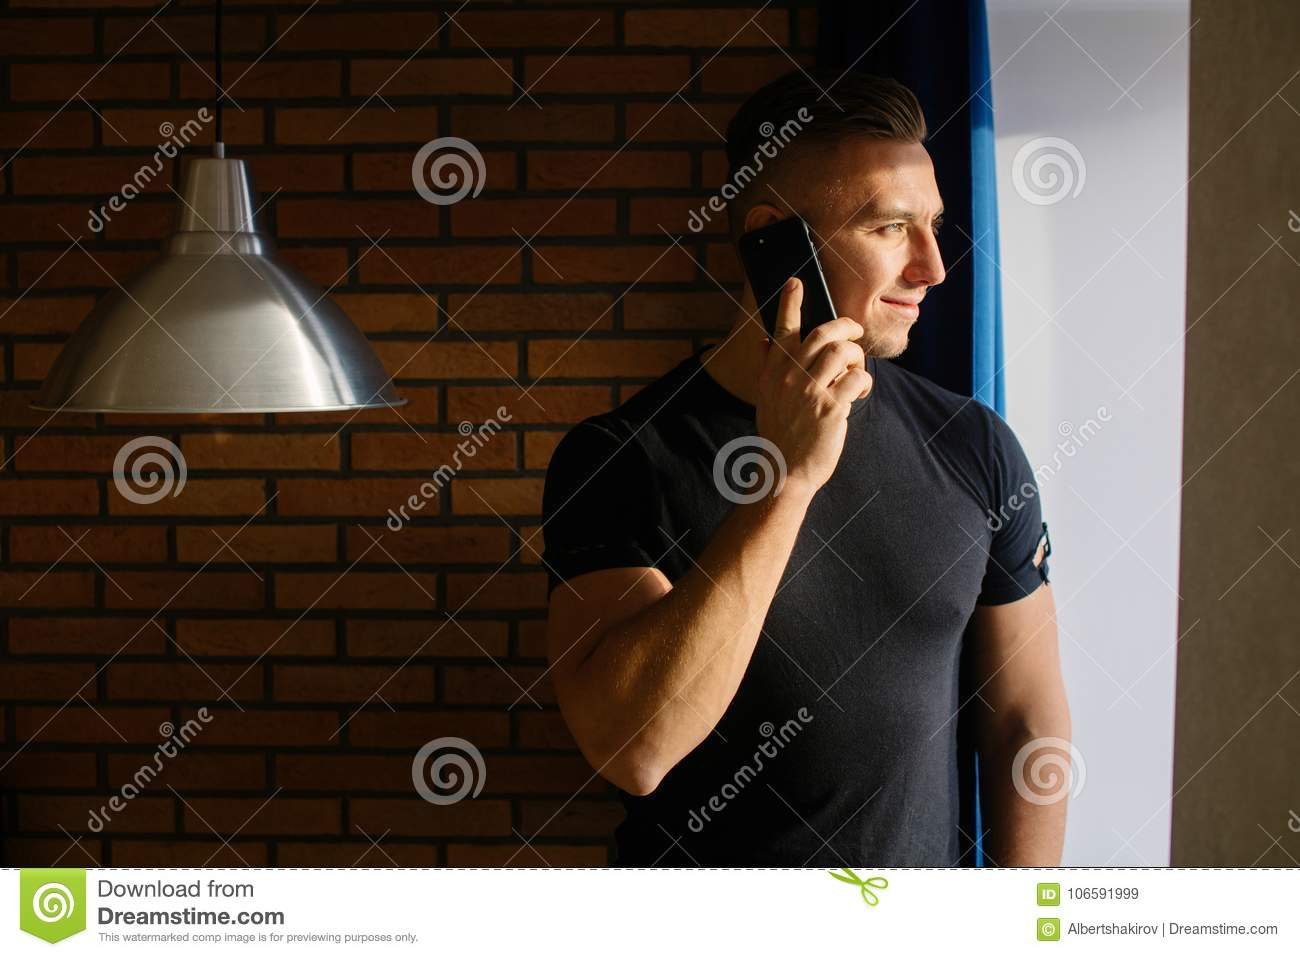phone: (743, 211, 854, 376)
talk: (741, 204, 949, 494)
